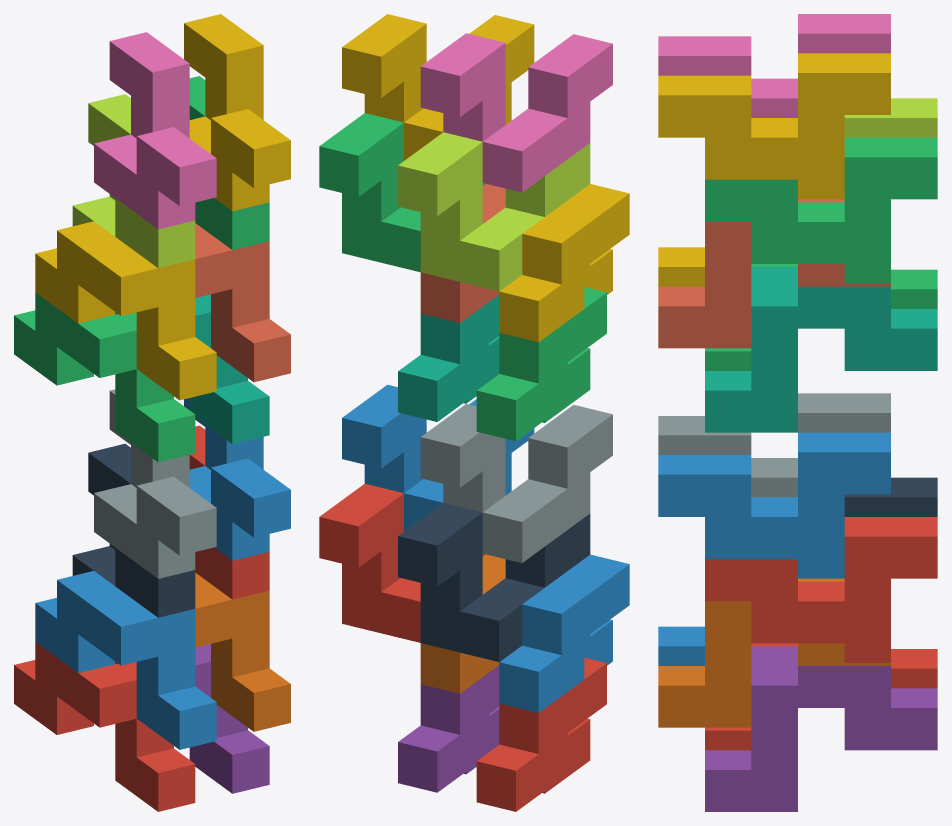
File: tiling.obj
3 views of the same model, side by side, from view 1: azimuth 30°, elevation 25°; view 2: azimuth 150°, elevation 25°; view 3: azimuth 270°, elevation 25° (orthographic). The views are drawn at different scales.
Visible parts, largest first — view 1: copy_1_domain_4, copy_1_domain_2, copy_2_domain_4, copy_2_domain_8, copy_1_domain_3, copy_1_domain_1, copy_2_domain_2, copy_1_domain_8, copy_1_domain_6, copy_2_domain_6, copy_2_domain_1, copy_2_domain_3 (+4 smaller); view 2: copy_2_domain_4, copy_2_domain_2, copy_2_domain_3, copy_2_domain_1, copy_1_domain_4, copy_1_domain_2, copy_2_domain_8, copy_2_domain_7, copy_2_domain_5, copy_1_domain_1, copy_1_domain_3, copy_1_domain_5 (+4 smaller); view 3: copy_2_domain_8, copy_2_domain_6, copy_1_domain_5, copy_1_domain_7, copy_2_domain_7, copy_2_domain_5, copy_1_domain_8, copy_1_domain_6, copy_2_domain_4, copy_2_domain_2, copy_1_domain_1, copy_1_domain_3 (+4 smaller).
Part boxes in pixels (x1,y1,x2,y2): copy_1_domain_4: (35, 221, 216, 400); copy_1_domain_2: (35, 571, 216, 749); copy_2_domain_4: (94, 32, 216, 229); copy_2_domain_8: (184, 14, 290, 211); copy_1_domain_3: (14, 292, 195, 462); copy_1_domain_1: (14, 642, 195, 811); copy_2_domain_2: (94, 389, 216, 578); copy_1_domain_8: (195, 223, 290, 382); copy_1_domain_6: (195, 573, 290, 731); copy_2_domain_6: (184, 398, 290, 560); copy_2_domain_1: (72, 443, 195, 617); copy_2_domain_3: (72, 94, 195, 268); copy_2_domain_4: (420, 33, 612, 192); copy_2_domain_2: (420, 404, 612, 562); copy_2_domain_3: (398, 132, 590, 291); copy_2_domain_1: (398, 503, 590, 661); copy_1_domain_4: (499, 184, 629, 342); copy_1_domain_2: (499, 554, 629, 712); copy_2_domain_8: (342, 14, 534, 160); copy_2_domain_7: (319, 113, 484, 272); copy_2_domain_5: (319, 483, 484, 642); copy_1_domain_1: (476, 657, 606, 811); copy_1_domain_3: (476, 287, 606, 441); copy_1_domain_5: (398, 665, 499, 792); copy_2_domain_8: (658, 53, 890, 199); copy_2_domain_6: (658, 432, 890, 578); copy_1_domain_5: (705, 646, 937, 811); copy_1_domain_7: (705, 267, 937, 432); copy_2_domain_7: (705, 137, 937, 283); copy_2_domain_5: (705, 517, 937, 662); copy_1_domain_8: (658, 199, 890, 348); copy_1_domain_6: (658, 578, 890, 727); copy_2_domain_4: (658, 14, 890, 117); copy_2_domain_2: (658, 393, 890, 497); copy_1_domain_1: (705, 643, 937, 750); copy_1_domain_3: (705, 264, 937, 370).
Bounding box in the file's own units: 5 × 18 × 6.
